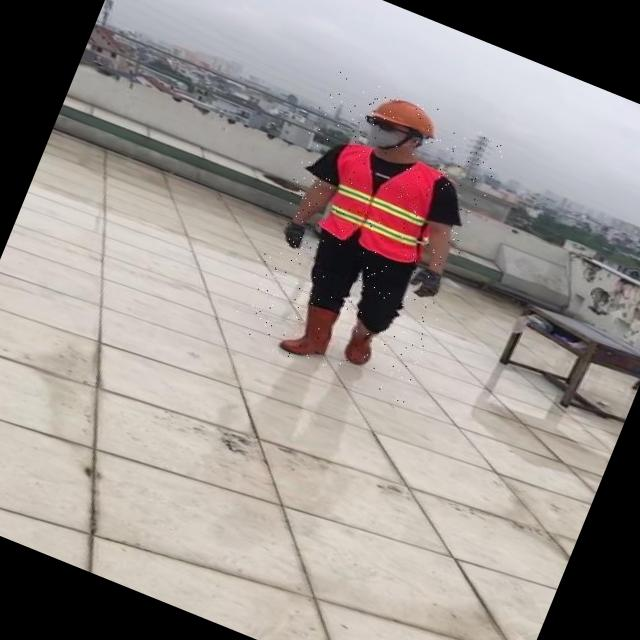hard_hat: (368, 89, 447, 142)
safety_vest: (311, 138, 448, 270)
vehicle: (228, 66, 510, 404)
work_boots: (278, 295, 346, 367), (337, 316, 385, 371)
